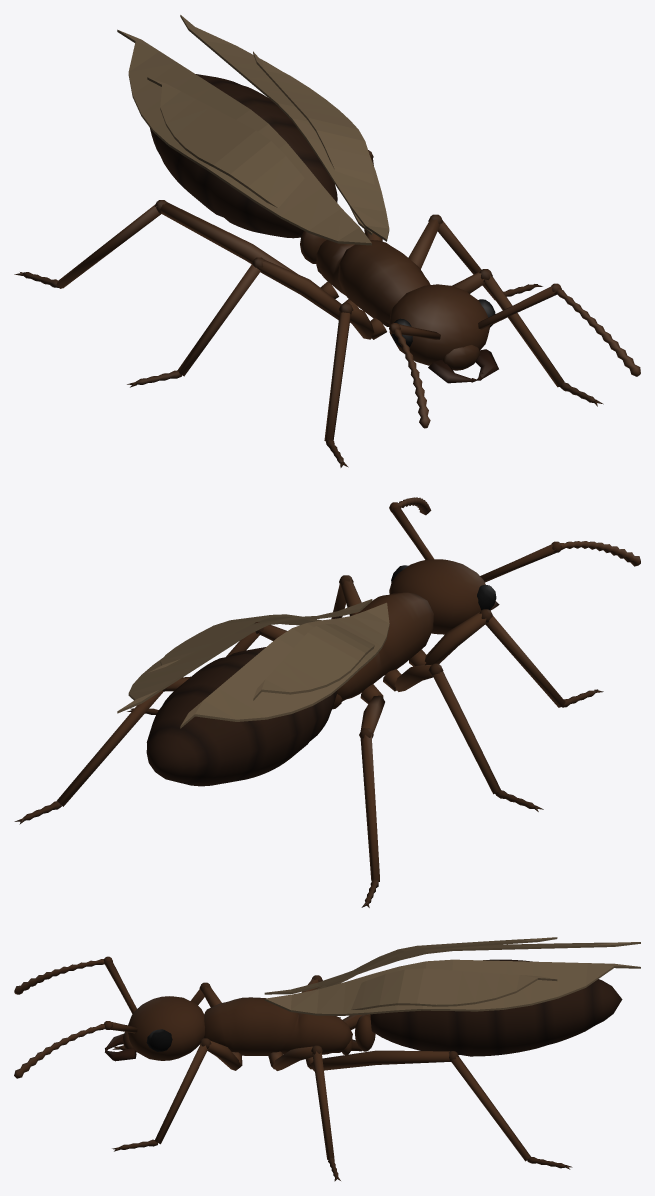
File: TitanomyrmaGigantea.fbx
The picture shows the model from 3 angles, top to bottom: view 1: azimuth 30°, elevation 25°; view 2: azimuth 150°, elevation 25°; view 3: azimuth 270°, elevation 25°; orthographic projection. The views are drawn at different scales.
Parts seen in each view (by area): view 1: TitanomyrmaGigantea; view 2: TitanomyrmaGigantea; view 3: TitanomyrmaGigantea.
Part boxes in pixels (x1,y1,x2,y2): TitanomyrmaGigantea: (14,15,640,467); TitanomyrmaGigantea: (14,497,640,907); TitanomyrmaGigantea: (14,937,640,1181).
Size of the model in its own units: 1.12 by 0.4601 by 1.79.
